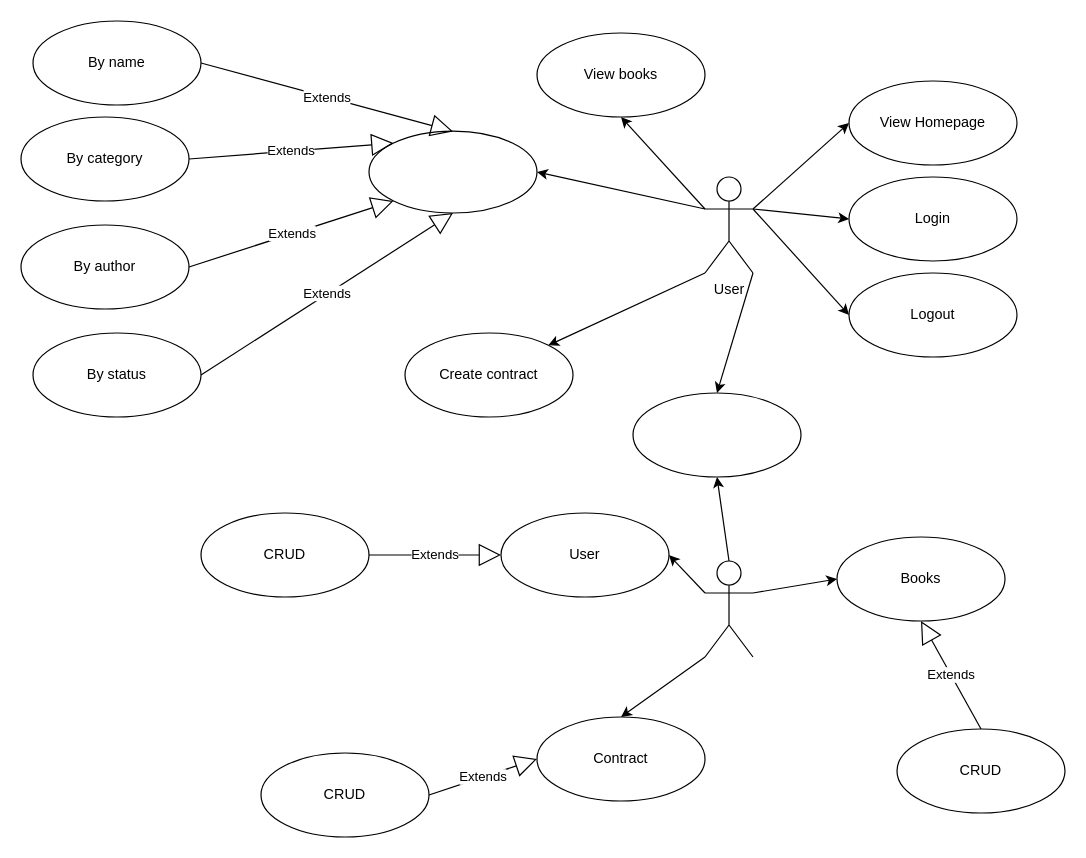
Image size: 1086x858. Some labels were removed from this diagram. The centre of each missing label's shape, as x and y in pixels:
Admin: pixel 728 608
Live chat: pixel 716 434
Search: pixel 452 171
